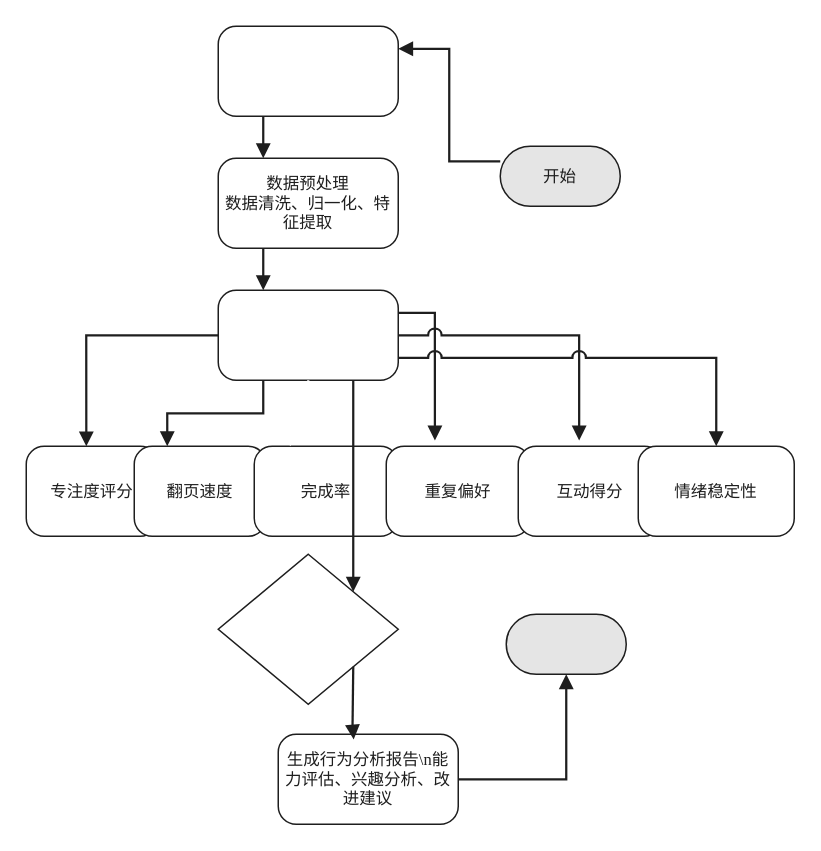
The diagram is 821 pixels wide and 851 high, and some of its shapes have lost their labels. Here are the shapes that lost their labels. From the top down, the centre of each, then its label:
pixel 307 70: 采集阅读行为数据 阅读时长、翻页速度、重复阅读、互动行为
pixel 307 334: 多维度特征计算
pixel 307 628: 阅读类型分类 专注型 / 兴趣导向型 / 跳跃型
pixel 565 643: 结束
